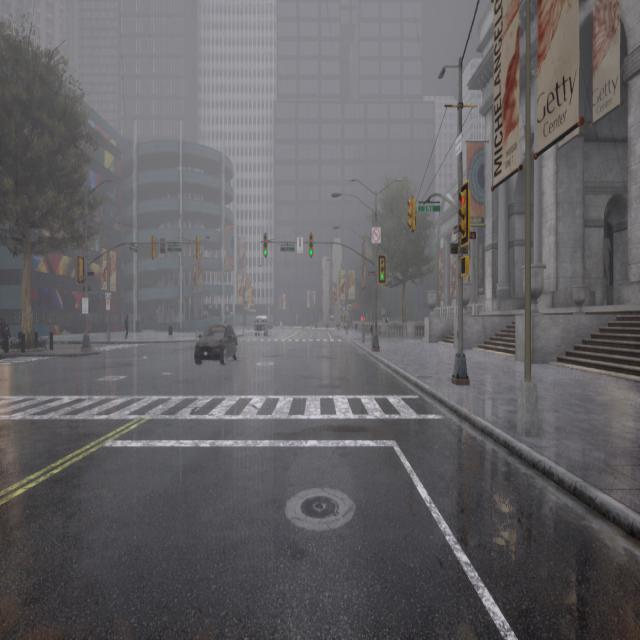4: (260, 246, 272, 258), (306, 246, 316, 259), (378, 270, 388, 282)
7: (452, 181, 477, 284), (404, 189, 419, 240), (258, 226, 274, 261), (304, 226, 318, 262), (376, 252, 389, 288)
8: (456, 187, 472, 210), (406, 194, 416, 210)
bien_cam: (370, 223, 382, 245)
